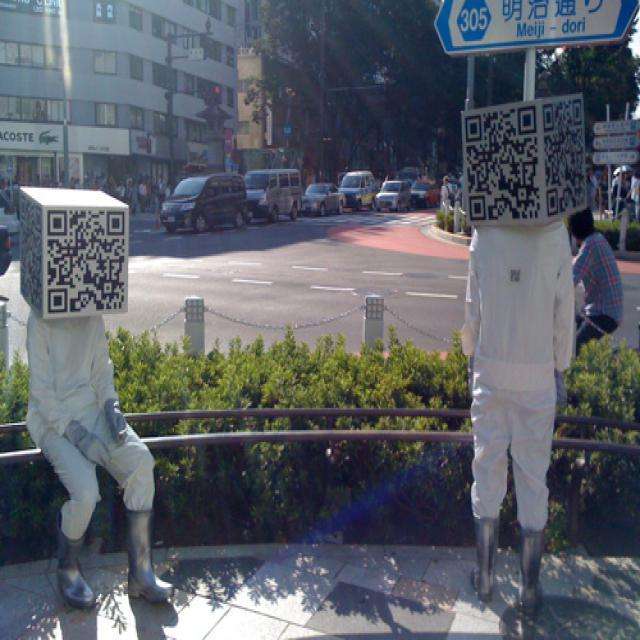qrcode: (466, 105, 541, 221), (49, 211, 126, 313), (544, 98, 585, 218), (20, 194, 42, 315)
